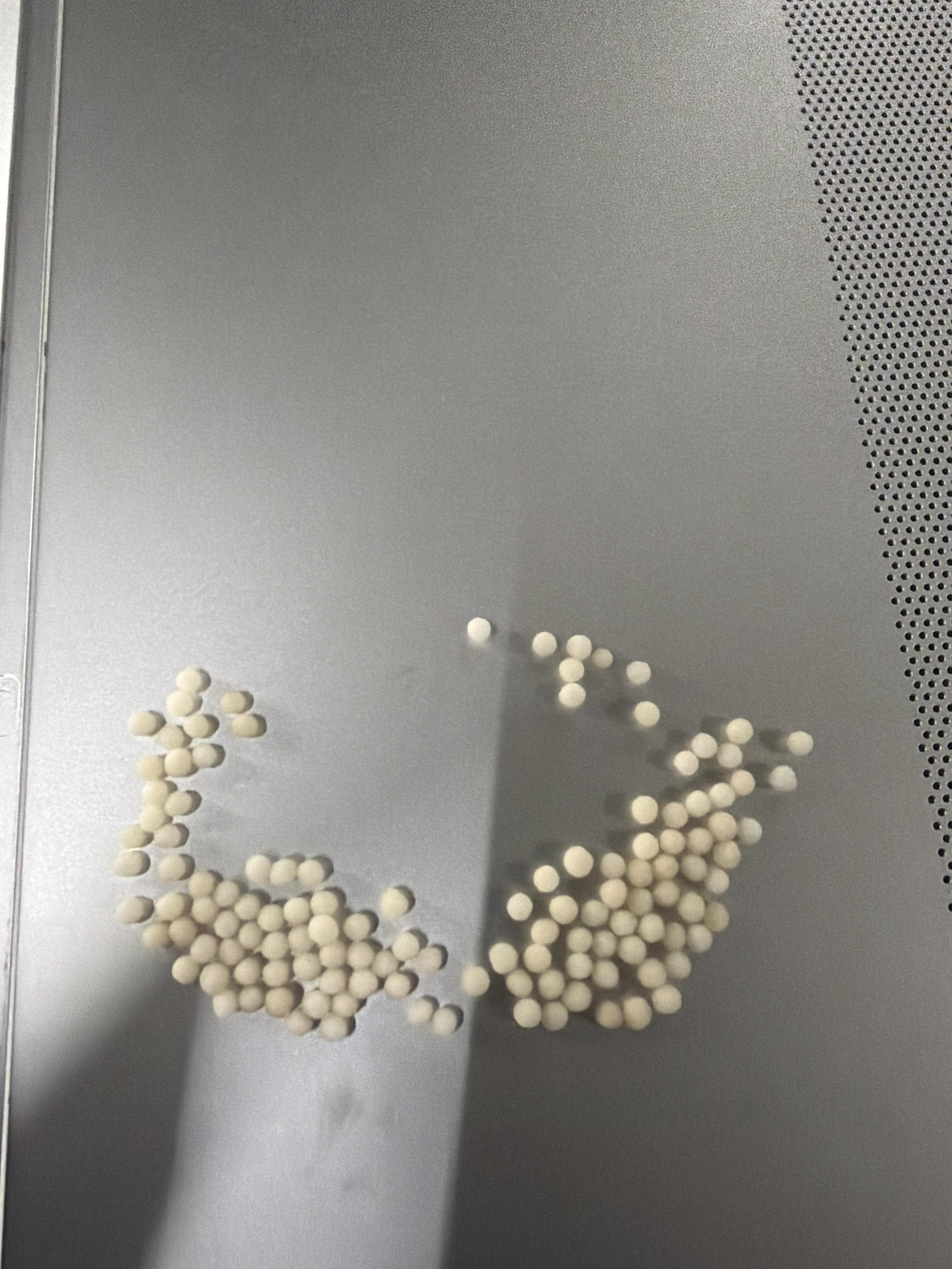pill: (460, 620, 511, 643), (124, 753, 166, 780), (167, 664, 205, 692), (715, 847, 749, 876), (159, 847, 190, 878), (532, 919, 558, 954), (214, 683, 244, 713), (116, 822, 147, 851), (348, 938, 376, 969), (519, 630, 555, 654), (123, 710, 156, 735), (540, 967, 567, 997), (390, 927, 417, 956), (573, 929, 600, 958), (168, 790, 195, 818), (120, 850, 148, 877), (671, 927, 694, 958), (598, 960, 624, 987), (543, 896, 571, 921), (606, 937, 630, 966), (146, 801, 168, 832), (715, 910, 740, 937), (235, 712, 259, 740), (190, 715, 218, 739), (530, 954, 555, 980), (735, 820, 762, 844), (661, 982, 686, 1007), (167, 751, 195, 773), (299, 864, 327, 886), (168, 919, 190, 946), (194, 745, 225, 764), (603, 998, 623, 1027), (551, 1001, 569, 1033), (564, 979, 587, 1004), (266, 937, 292, 959), (502, 902, 532, 921), (645, 957, 664, 987), (784, 740, 822, 755), (288, 1011, 308, 1039), (268, 996, 293, 1018), (631, 990, 648, 1021), (176, 963, 201, 984), (686, 803, 711, 824), (349, 974, 376, 993), (387, 981, 414, 1000), (236, 902, 266, 919), (523, 998, 540, 1028), (678, 888, 700, 911), (660, 982, 678, 1010), (784, 767, 808, 788), (156, 826, 181, 846), (148, 784, 174, 803), (123, 888, 140, 917), (702, 927, 720, 954), (159, 723, 181, 745), (398, 935, 421, 956), (696, 734, 715, 759), (165, 894, 183, 920), (559, 683, 580, 705), (211, 992, 234, 1012), (667, 808, 686, 832), (634, 863, 652, 888), (685, 839, 710, 857), (318, 889, 338, 911), (603, 889, 623, 911), (412, 1000, 435, 1019), (286, 1014, 307, 1034), (682, 861, 703, 881), (633, 993, 648, 1021), (246, 918, 265, 940), (203, 968, 225, 987), (329, 1015, 351, 1034), (708, 786, 732, 803), (734, 771, 749, 798), (269, 860, 288, 881), (638, 849, 659, 868), (490, 951, 512, 969), (557, 658, 579, 676), (249, 853, 263, 881), (323, 973, 347, 989), (320, 911, 339, 931), (312, 996, 332, 1015), (620, 1000, 640, 1019), (146, 935, 173, 949), (649, 924, 667, 945), (353, 915, 375, 932), (592, 652, 616, 667), (190, 869, 211, 886), (631, 893, 652, 910), (304, 921, 326, 937), (353, 973, 375, 989), (353, 916, 371, 935), (630, 891, 648, 910), (431, 1006, 448, 1026), (658, 838, 679, 854), (217, 883, 239, 898), (721, 721, 754, 731), (255, 902, 273, 920), (619, 935, 640, 950), (628, 658, 649, 673), (293, 897, 310, 915), (238, 985, 256, 1002), (264, 960, 280, 979), (708, 877, 727, 893), (658, 860, 677, 876), (595, 993, 610, 1013), (428, 941, 441, 964), (680, 754, 698, 770), (593, 863, 615, 876), (606, 993, 619, 1015), (375, 956, 394, 971), (682, 954, 697, 973), (299, 952, 315, 969), (246, 963, 261, 981), (575, 952, 591, 968), (631, 808, 654, 819), (198, 896, 212, 914), (568, 639, 596, 648), (198, 941, 212, 958), (173, 685, 186, 703), (392, 886, 401, 912), (466, 962, 478, 981), (337, 992, 352, 1007), (224, 941, 237, 958), (268, 910, 281, 926), (538, 869, 552, 883), (219, 889, 236, 900), (516, 970, 528, 985), (293, 932, 305, 946), (225, 877, 231, 903), (590, 902, 601, 916), (216, 916, 231, 926), (329, 945, 342, 955), (718, 820, 727, 834)
